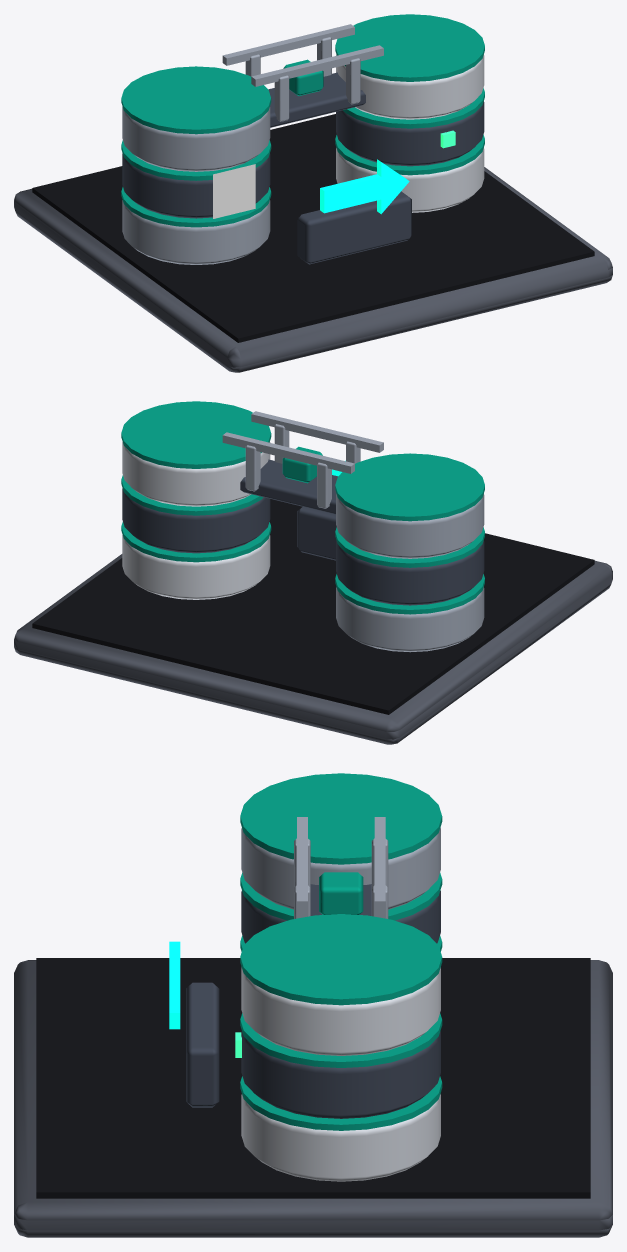
Rendered from dms.glb.
3 renders of one model, top to bottom at view 1: azimuth 30°, elevation 25°; view 2: azimuth 150°, elevation 25°; view 3: azimuth 270°, elevation 25°, orthographic. The views are drawn at different scales.
Visible parts, largest first — view 1: body.rubber, body.accent, body.concrete, body.steel, body.steel_light, body.white, body.accent_glow, body.badge, bob_record.accent; view 2: body.rubber, body.accent, body.concrete, body.steel_light, body.steel, body.white, bob_record.accent; view 3: body.rubber, body.accent, body.concrete, body.white, body.steel, body.steel_light, bob_record.accent, body.accent_glow.
Boxes of the visible parts, left/top/right/bottom form: body.rubber: left=32, top=114, right=594, bottom=342; body.accent: left=121, top=14, right=484, bottom=227; body.concrete: left=14, top=167, right=612, bottom=372; body.steel: left=122, top=72, right=484, bottom=264; body.steel_light: left=122, top=24, right=383, bottom=264; body.white: left=336, top=54, right=484, bottom=212; body.accent_glow: left=320, top=159, right=409, bottom=214; body.badge: left=213, top=164, right=255, bottom=218; bob_record.accent: left=283, top=59, right=323, bottom=95; body.rubber: left=32, top=499, right=594, bottom=714; body.accent: left=121, top=401, right=484, bottom=614; body.concrete: left=14, top=554, right=612, bottom=744; body.steel_light: left=222, top=411, right=484, bottom=652; body.steel: left=122, top=459, right=484, bottom=605; body.white: left=122, top=442, right=270, bottom=599; bob_record.accent: left=282, top=446, right=322, bottom=483; body.rubber: left=36, top=958, right=590, bottom=1198; body.accent: left=240, top=773, right=442, bottom=1130; body.concrete: left=14, top=960, right=612, bottom=1237; body.white: left=241, top=968, right=440, bottom=1181; body.steel: left=186, top=884, right=440, bottom=1118; body.steel_light: left=241, top=817, right=440, bottom=968; bob_record.accent: left=319, top=872, right=363, bottom=914; body.accent_glow: left=169, top=941, right=180, bottom=1029.
Size of the model in its own units: 1.08 by 0.512 by 1.08.
